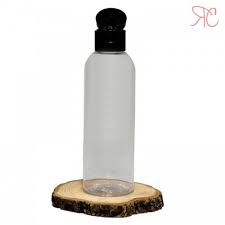available: (74, 38, 148, 201)
